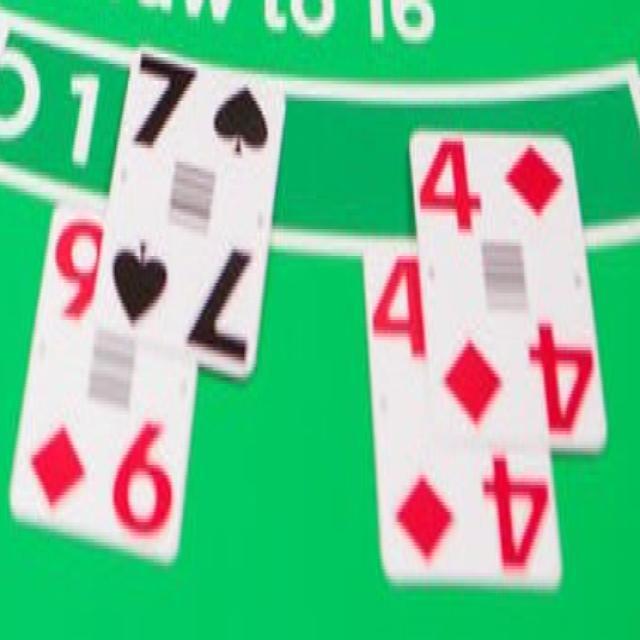Card-4: (362, 249, 560, 589), (410, 132, 607, 445)
Card-7: (97, 42, 285, 371)
Card-9: (10, 200, 197, 564)
